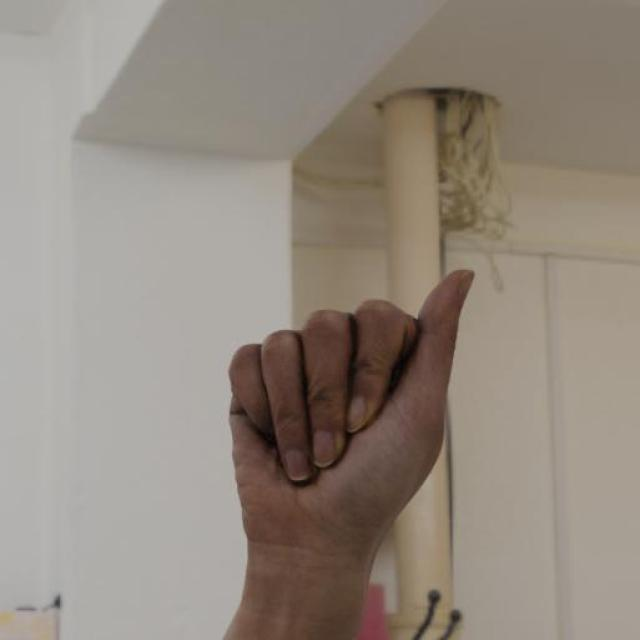A: (222, 267, 484, 575)
